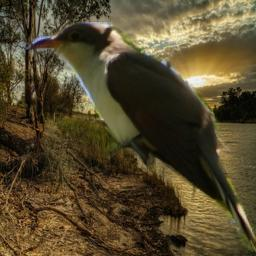Cuckoo: (24, 22, 256, 253)
